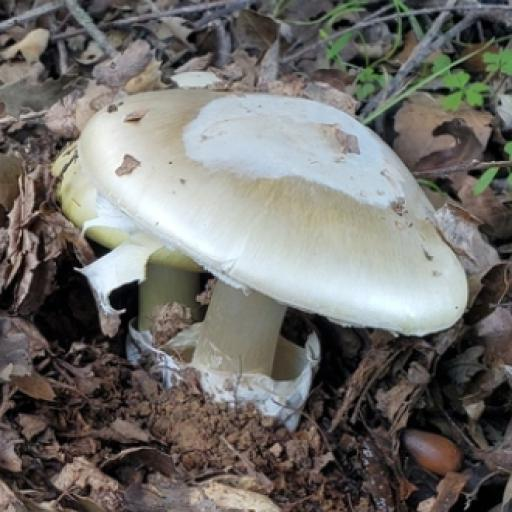mushroom: (16, 0, 493, 477)
